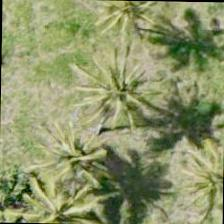Kelapa_Sawit: (74, 51, 166, 143), (27, 119, 119, 210), (81, 0, 173, 55), (174, 133, 223, 223)
